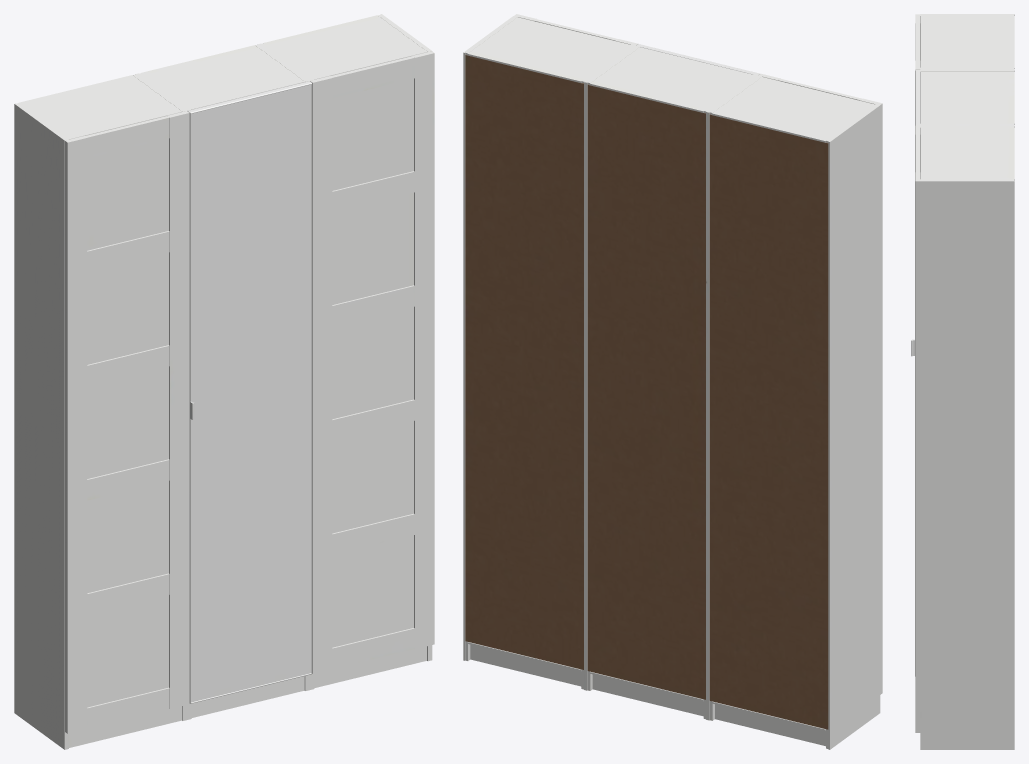
File: pax_bergsbo_aheim_kombinacja_szafy_49336176.glb
The picture shows the model from 3 angles, left to right: view 1: azimuth 30°, elevation 25°; view 2: azimuth 150°, elevation 25°; view 3: azimuth 270°, elevation 25°; orthographic projection. The views are drawn at different scales.
Parts seen in each view (by area): view 1: pax_bergsbo_aheim_kombinacja_szafy_49336176; view 2: pax_bergsbo_aheim_kombinacja_szafy_49336176; view 3: pax_bergsbo_aheim_kombinacja_szafy_49336176.
Boxes of the visible parts, x1=… form: pax_bergsbo_aheim_kombinacja_szafy_49336176: x1=14, y1=14, x2=434, y2=749; pax_bergsbo_aheim_kombinacja_szafy_49336176: x1=463, y1=14, x2=882, y2=749; pax_bergsbo_aheim_kombinacja_szafy_49336176: x1=911, y1=14, x2=1014, y2=749.
Bounding box in the file's own units: 1.49 × 2.36 × 0.3896.
1 material, 1 textured.
